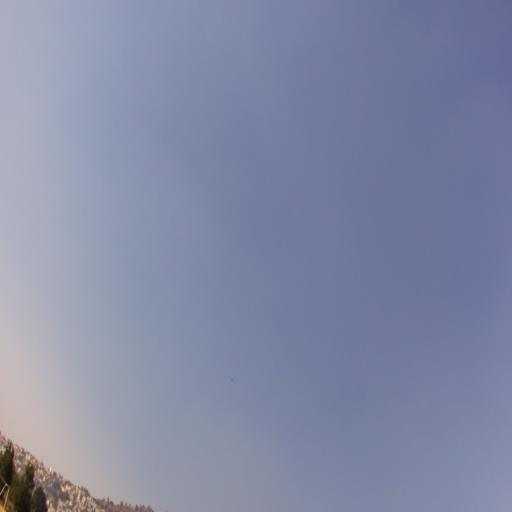drones: (229, 375, 234, 383)
